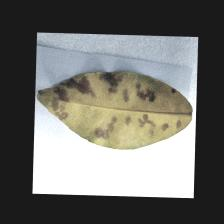black spot: (50, 74, 178, 148)
